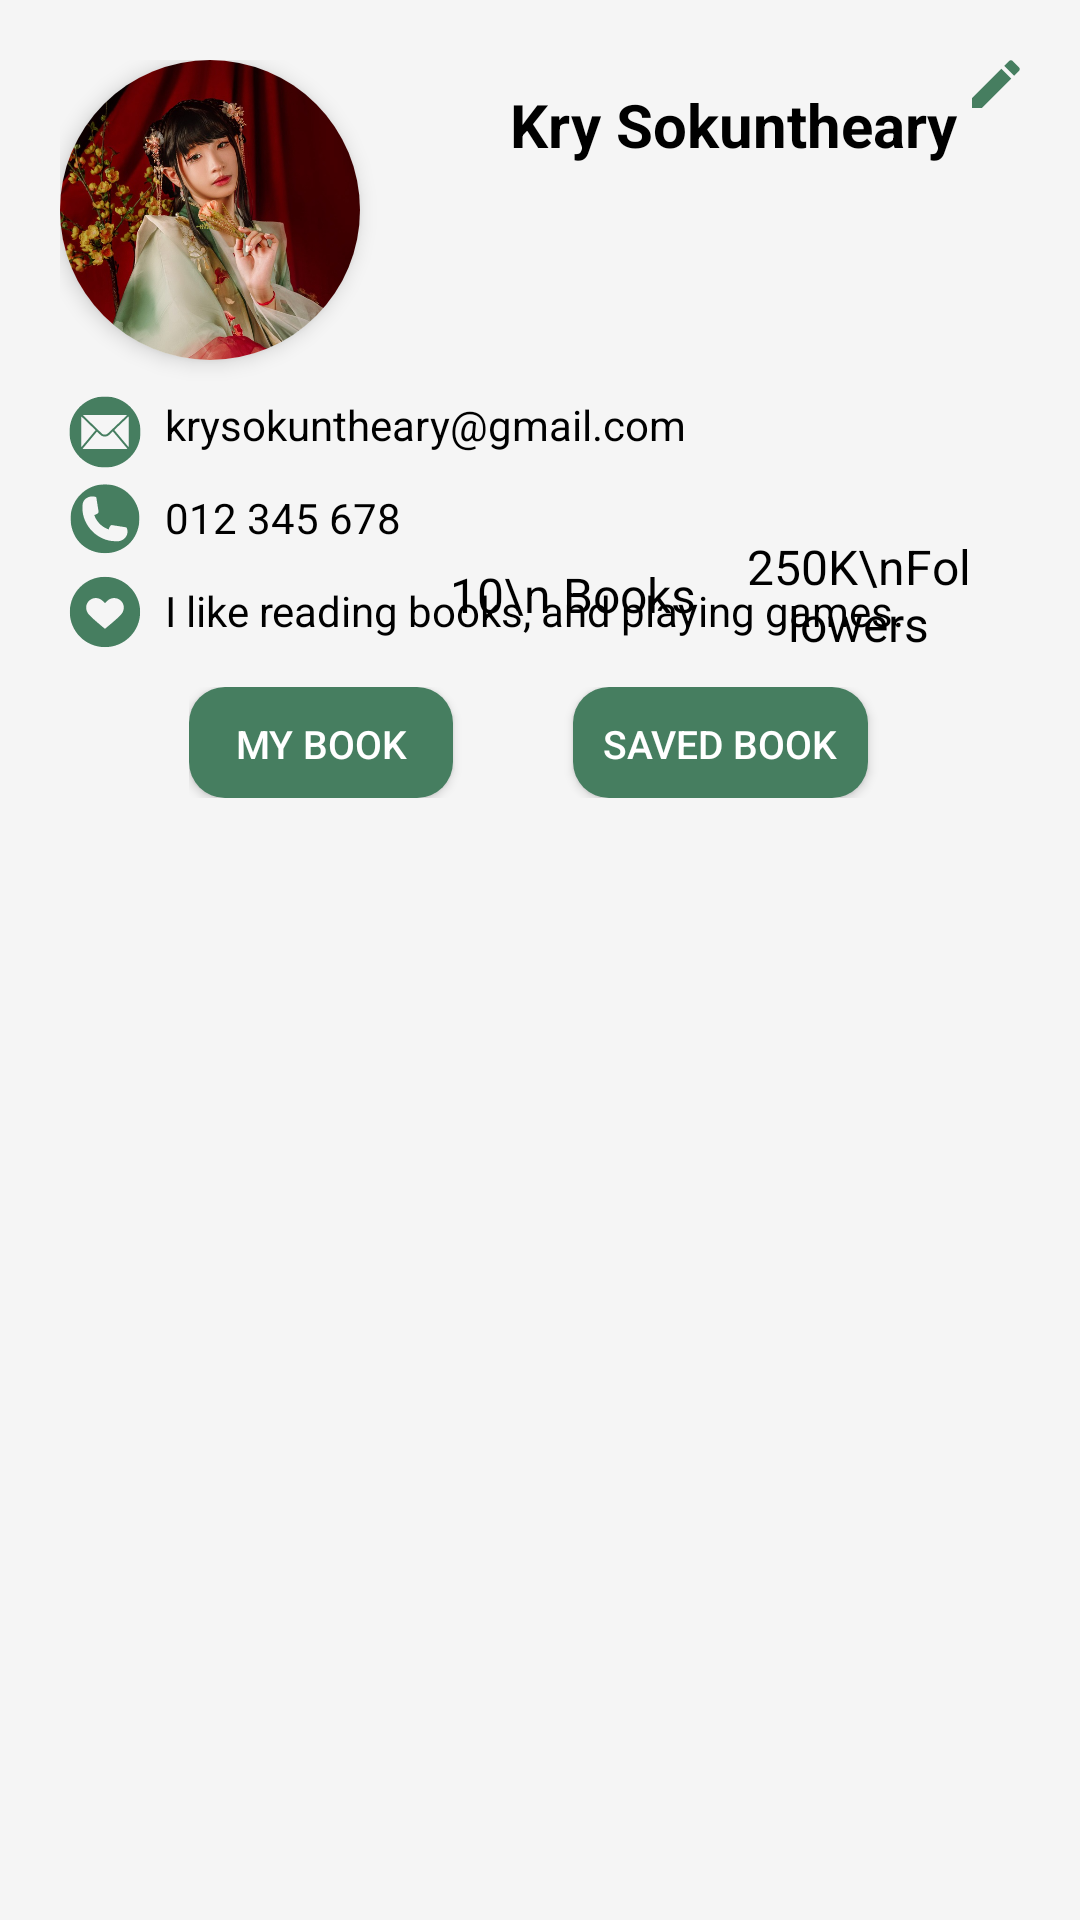

Icon bounding boxes for this 1080*1920 phone screenshot, format box=[x1, y1, x2, y2]:
edit: box=[972, 60, 1020, 108]
heart: box=[70, 577, 140, 647]
seavphov profile: box=[60, 60, 360, 360]
telephone: box=[70, 484, 140, 553]
